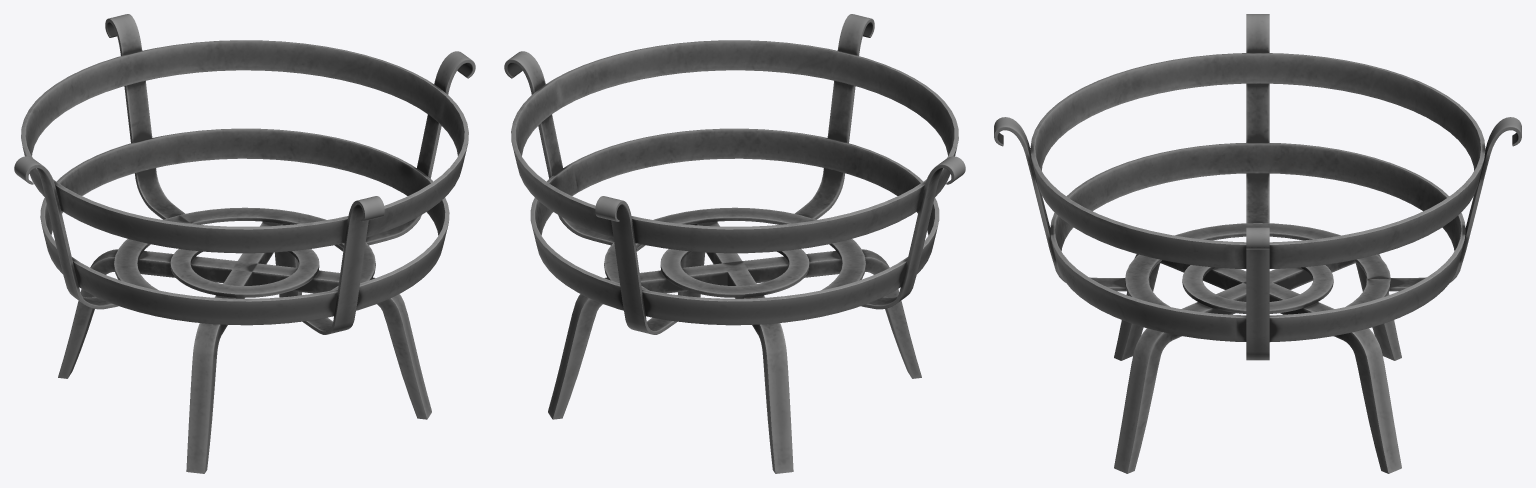
File: iron_brazier.glb
3 views of the same model, side by side, from view 1: azimuth 30°, elevation 25°; view 2: azimuth 150°, elevation 25°; view 3: azimuth 270°, elevation 25° (orthographic).
Parts seen in each view (by area): view 1: iron_brazier_01.001, iron_brazier_01.003, iron_brazier_01, iron_brazier_01.002; view 2: iron_brazier_01.001, iron_brazier_01.003, iron_brazier_01, iron_brazier_01.002; view 3: iron_brazier_01.001, iron_brazier_01.003, iron_brazier_01, iron_brazier_01.002.
Part boxes in pixels (x1,y1,x2,y2): iron_brazier_01.001: [21, 40, 468, 325]; iron_brazier_01.003: [58, 221, 431, 473]; iron_brazier_01: [14, 14, 475, 334]; iron_brazier_01.002: [114, 207, 375, 297]; iron_brazier_01.001: [511, 40, 958, 325]; iron_brazier_01.003: [548, 221, 921, 473]; iron_brazier_01: [504, 14, 965, 334]; iron_brazier_01.002: [604, 207, 865, 297]; iron_brazier_01.001: [1030, 53, 1485, 341]; iron_brazier_01.003: [1114, 254, 1401, 473]; iron_brazier_01: [994, 14, 1521, 360]; iron_brazier_01.002: [1125, 223, 1390, 313].
Bounding box in the file's own units: 1.08 × 0.6589 × 1.08.
1 material, 1 textured.
